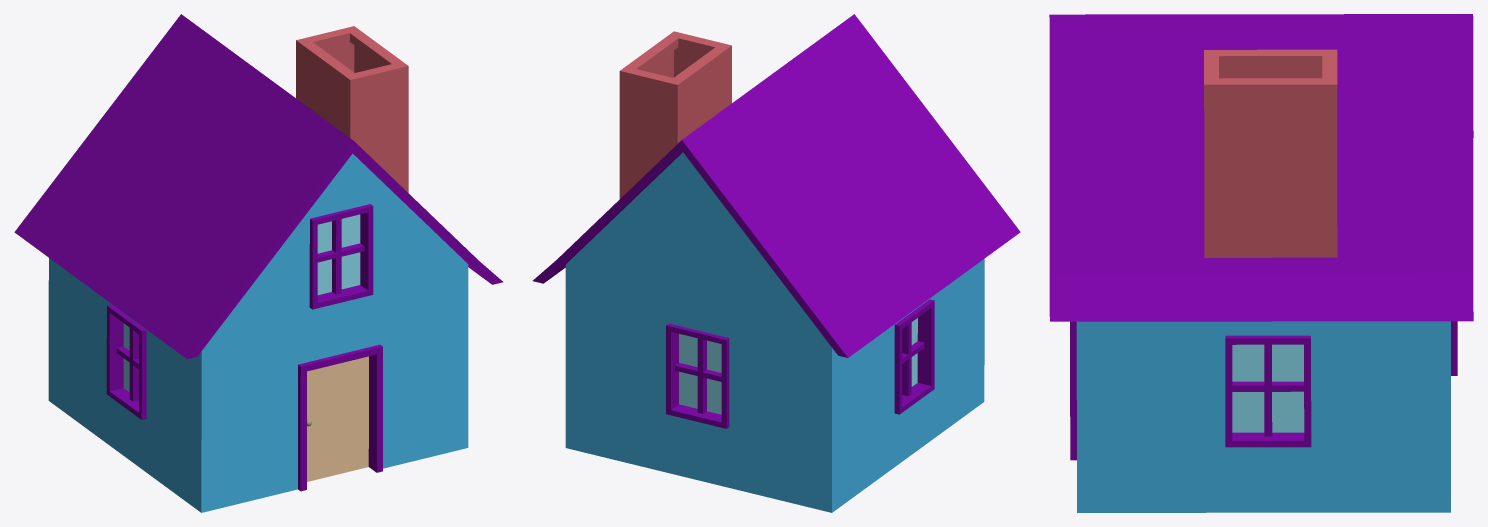
The model's file is building_1.glb.
3 renders of one model, left to right at view 1: azimuth 30°, elevation 25°; view 2: azimuth 150°, elevation 25°; view 3: azimuth 270°, elevation 25°, orthographic. The views are drawn at different scales.
Visible parts, largest first — view 1: Material2.003, Material3.001, Material2.004, Material3.003, Material3.002; view 2: Material3.001, Material2.003, Material2.004, Material3.002; view 3: Material2.003, Material3.001, Material2.004, Material3.002.
Part boxes in pixels (x1,y1,x2,y2): Material2.003: [14, 14, 503, 491]; Material3.001: [48, 153, 468, 512]; Material2.004: [296, 26, 408, 192]; Material3.003: [307, 356, 368, 481]; Material3.002: [123, 214, 360, 391]; Material3.001: [565, 152, 984, 512]; Material2.003: [532, 14, 1020, 428]; Material2.004: [619, 31, 731, 198]; Material3.002: [679, 318, 917, 414]; Material2.003: [1049, 14, 1473, 460]; Material3.001: [1076, 321, 1450, 512]; Material2.004: [1204, 49, 1337, 257]; Material3.002: [1232, 344, 1304, 432].
Size of the model in its own units: 330 by 345 by 313.
